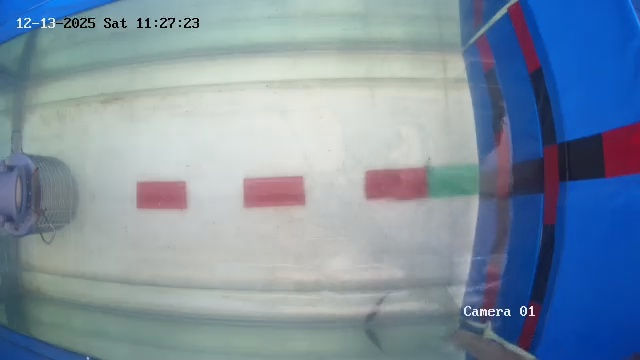fish: (311, 307, 346, 329)
